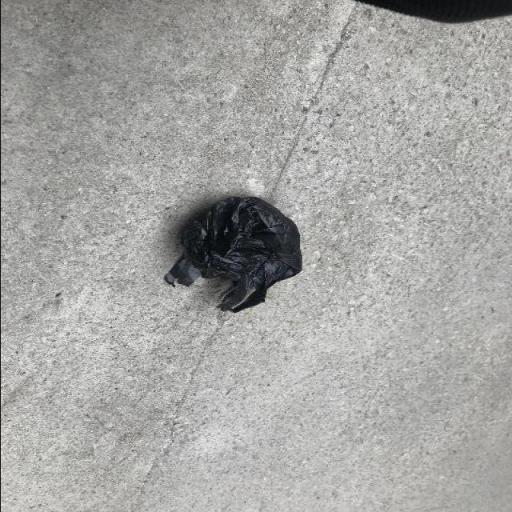plastic-bag: (158, 194, 308, 314)
